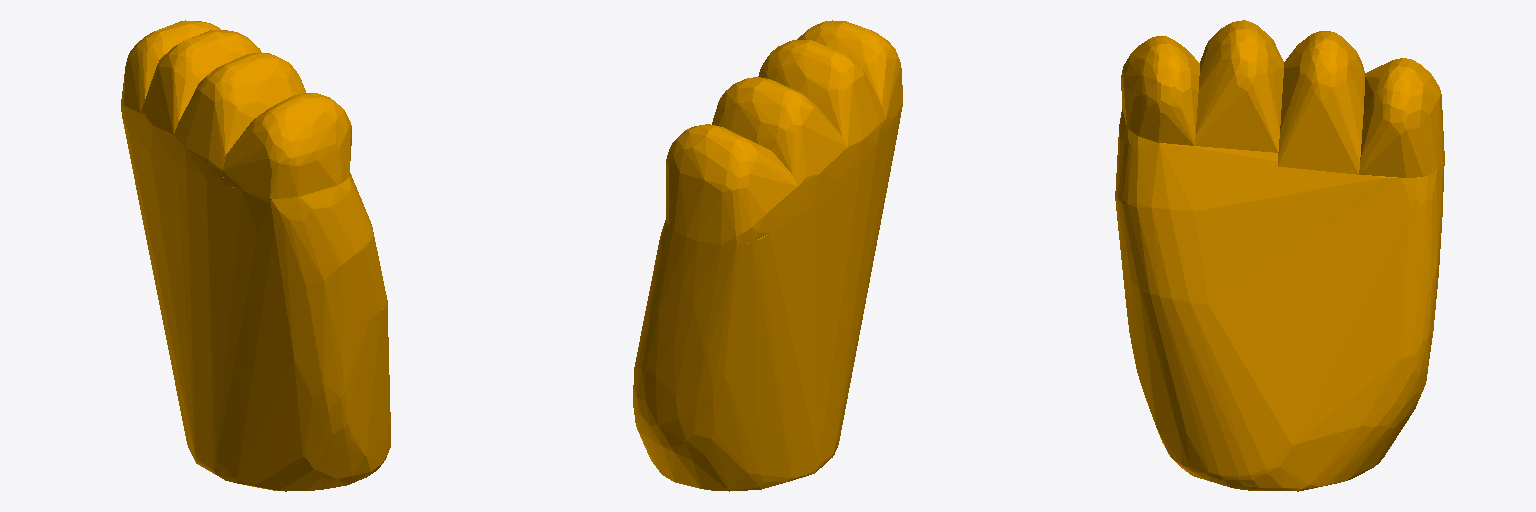
The robot description file, URDF, robot "ability_hand":
<robot name="ability_hand">
  <link name="root">
    <inertial>
      <mass value="0"/>
      <inertia ixx="0" ixy="0" ixz="0" iyy="0" iyz="0" izz="0" />
    </inertial>
  </link>
  <link name="root_arm_1_link_1">
    <inertial>
      <mass value="0"/>
      <inertia ixx="0.00" ixy="0.00" ixz="0.00" iyy="0.00" iyz="0.00" izz="0.00"/>
    </inertial>
  </link>
  <link name="root_arm_1_link_2">
    <inertial>
      <mass value="0"/>
      <inertia ixx="0.00" ixy="0.00" ixz="0.00" iyy="0.00" iyz="0.00" izz="0.00"/>
    </inertial>
  </link>
  <link name="root_arm_1_link_3">
    <inertial>
      <mass value="0"/>
      <inertia ixx="0.00" ixy="0.00" ixz="0.00" iyy="0.00" iyz="0.00" izz="0.00"/>
    </inertial>
  </link>
  <link name="root_arm_1_link_4">
    <inertial>
      <mass value="0"/>
      <inertia ixx="0.00" ixy="0.00" ixz="0.00" iyy="0.00" iyz="0.00" izz="0.00"/>
    </inertial>
  </link>
  <link name="root_arm_1_link_5">
    <inertial>
      <mass value="0"/>
      <inertia ixx="0.00" ixy="0.00" ixz="0.00" iyy="0.00" iyz="0.00" izz="0.00"/>
    </inertial>
  </link>
  <joint name="root_x_axis_joint" type="prismatic">
    <parent link="root" />
    <child link="root_arm_1_link_1" />
    <axis xyz="1 0 0" />
    <limit effort="100" lower="-20" upper="20" velocity="0.5" />
    <dynamics damping="10.0" friction="10" />
  </joint>
  <joint name="root_y_axis_joint" type="prismatic">
    <parent link="root_arm_1_link_1" />
    <child link="root_arm_1_link_2" />
    <axis xyz="0 1 0" />
    <limit effort="100" lower="-20" upper="20" velocity="0.5" />
    <dynamics damping="10" friction="10" />
  </joint>
  <joint name="root_z_axis_joint" type="prismatic">
    <parent link="root_arm_1_link_2" />
    <child link="root_arm_1_link_3" />
    <axis xyz="0 0 1" />
    <limit effort="100" lower="-20" upper="20" velocity="0.5" />
    <dynamics damping="10" friction="10" />
  </joint>
  <joint name="root_x_rot_joint" type="revolute">
    <parent link="root_arm_1_link_3" />
    <child link="root_arm_1_link_4" />
    <axis xyz="1 0 0" />
    <limit effort="100" lower="-20" upper="20" velocity="0.5" />
    <dynamics damping="10" friction="10" />
  </joint>
  <joint name="root_y_rot_joint" type="revolute">
    <parent link="root_arm_1_link_4" />
    <child link="root_arm_1_link_5" />
    <axis xyz="0 1 0" />
    <limit effort="100" lower="-20" upper="20" velocity="0.5" />
    <dynamics damping="10" friction="10" />
  </joint>
  <joint name="root_z_rot_joint" type="revolute">
    <parent link="root_arm_1_link_5" />
    <child link="base_link" />
    <axis xyz="0 0 1" />
    <limit effort="100" lower="-20" upper="20" velocity="0.5" />
    <dynamics damping="10" friction="10" />
  </joint>

  <link name="base_link"/>
  <joint name="base_joint" type="fixed">
    <parent link="base_link"/>
    <child link="base"/>
    <origin xyz="0 0 0" rpy="0 0 -1.57079"/>
  </joint>
  <link name="base">
    <visual name="wrist_mesh">
      <origin rpy="0 0 0" xyz="0 0 0"/>
      <geometry>
        <mesh filename="meshes/visual/wristmesh.obj"/>
      </geometry>
    </visual>
    <collision>
      <origin xyz="0 0 0" rpy="0 0 0"/>
      <geometry>
        <mesh filename="meshes/collision/wristmesh_C.obj"/>
      </geometry>
    </collision>
    <inertial>  <!-- the mass and inertia here are NOT correct -->
      <mass value="0.200"/>
      <inertia ixx="978.26e-6" ixy="87.34e-6" ixz="322.99e-6" iyy="1244.78e-6" iyz="244.74e-6" izz="456.22e-6"/>
      <origin xyz="22.41911e-3 -0.15798201e-3 -0.01319866e-3" rpy="0 0 0"/>
    </inertial>
  </link>
  <joint name="wrist2thumb" type="fixed">
    <parent link="base"/>
    <child link="thumb_base"/>
    <origin xyz="24.0476665e-3 3.78124745e-3 32.32964923e-3" rpy="3.14148426 0.08848813 3.14036612"/>
  </joint>
  <link name="thumb_base">
    <inertial>
      <mass value="0.400"/>
      <inertia ixx="978.26e-6" ixy="87.34e-6" ixz="322.99e-6" iyy="1244.78e-6" iyz="244.74e-6" izz="456.22e-6"/>
      <origin xyz="22.41911e-3 -0.15798201e-3 -0.01319866e-3" rpy="0 0 0"/>
    </inertial>
    <visual name="palm_mesh">
      <origin rpy="0 0 0" xyz="0 0 0"/>
      <geometry>
        <mesh filename="meshes/visual/FB_palm_ref.obj"/>
      </geometry>
    </visual>
    <collision>                                  <!-- thumb_base -->
      <origin xyz="0 0 0" rpy="0 0 0"/>
      <geometry>
        <mesh filename="meshes/collision/FB_palm_ref.obj"/>
      </geometry>
    </collision>
  </link>
  <link name="thumb_L1">
    <inertial>
      <mass value="0.00268342"/>
      <inertia ixx="0.16931e-4" ixy="-0.076214e-4" ixz="-0.16959148e-4" iyy="0.77769934e-4" iyz="0.0156622e-4" izz="0.7249122e-4"/>
      <origin rpy="0 0 0" xyz="14.606e-3 -1.890854e-3 -3.1155356e-3"/>
    </inertial>
    <visual name="thumb_mesh_1">
      <origin xyz="27.8283501e-3 0 -14.7507000e-3" rpy="4.450589592585541 0 0"/>
      <geometry>
        <mesh filename="meshes/visual/thumb-F1.obj"/>
      </geometry>
    </visual>
    <collision>                            <!-- thumb_L1 -->
      <origin xyz="27.8283501e-3 0 -14.7507000e-3" rpy="4.450589592585541 0 0"/>
      <geometry>
        <mesh filename="meshes/collision/thumb-F1_C.obj"/>
      </geometry>
    </collision>
  </link>
  <link name="thumb_L2">
    <inertial>
      <mass value="0.0055"/>
      <inertia ixx="4.4789082e-4" ixy="4.4789082e-4" ixz="-0.62144934e-4" iyy="15.600996e-4" iyz="-0.07466143e-4" izz="17.908554e-4"/>
      <origin rpy="0 0 0" xyz="30.020522e-3 5.59476e-3 -4.1504356e-3"/>
    </inertial>
    <visual name="thumb_mesh_2">
      <origin xyz="65.18669e-3 23.34021e-3 -3.93483e-3" rpy="3.141592 0 0.343830"/>
      <geometry>
        <mesh filename="meshes/visual/thumb-F2.obj"/>
      </geometry>
    </visual>
    <collision>                            <!-- thumb_L2 -->
      <origin xyz="65.18669e-3 23.34021e-3 -3.93483e-3" rpy="3.141592 0 0.343830"/>
      <geometry>
        <mesh filename="meshes/collision/thumb-F2_C.obj"/>
      </geometry>
    </collision>
  </link>
  <joint name="thumb_q1" type="revolute">
    <parent link="thumb_base"/>
    <child link="thumb_L1"/>
    <origin xyz="0 0 0" rpy="0 0 3.330437"/>
    <axis xyz="0 0 1"/>
    <limit lower="-2.0943951" upper="0" effort="1.2" velocity="40.338888721"/>    <!-- angles in rad, efforts in N-m, velocity in rad/s -->
    <dynamics damping="0.001" friction="0.001"/>  <!-- Friction coefficient is not from quantitative measurement -->
  </joint>
  <joint name="thumb_q2" type="revolute">
    <parent link="thumb_L1"/>
    <child link="thumb_L2"/>
    <origin xyz="27.8283501e-3 0 -14.7507000e-3" rpy="4.450589592585541 0 0"/>
    <axis xyz="0 0 1"/>
    <limit lower="0" upper="2.0943951" effort="6.0" velocity="8.0677777442"/>    <!-- angles in rad, efforts in N-m, velocity in rad/s -->
    <dynamics damping="0.001" friction="0.001"/>  <!-- Friction coefficient is not from quantitative measurement -->
  </joint>
  <link name="thumb_tip"/>
  <joint name="thumb_tip_joint" type="fixed">
    <parent link="thumb_L2"/>
    <child link="thumb_tip"/>
    <origin rpy="0 0 0" xyz="0.065 0.016 0"/>
  </joint>
  <link name="index_L1">
    <inertial>
      <mass value="0.00635888"/>
      <inertia ixx="0.29766e-4" ixy="-0.06447133e-4" ixz="-0.00423315e-4" iyy="3.6947967e-4" iyz="0.00083028e-4" izz="3.8176336e-4"/>
      <origin xyz="22.41911e-3 -0.15798201e-3 -0.01319866e-3" rpy="0 0 0"/>
    </inertial>
    <visual name="index_mesh_1">
      <origin xyz="38.472723e-3 3.257695e-3 0.000000" rpy="0 0 0.084474"/>
      <geometry>
        <mesh filename="meshes/visual/idx-F1.obj"/>
      </geometry>
    </visual>
    <collision>                                  <!-- index_L1 -->
      <origin xyz="0.036 -0.00175 0" rpy="0 0 0"/>
      <geometry>
        <sphere radius="0.0085"/>
      </geometry>
    </collision>
    <collision>
      <origin xyz="0.019 -0.0045 0" rpy="0 0 0.0845"/>
      <geometry>
        <box size="0.028 0.012 0.016"/>
      </geometry>
    </collision>
    <collision>
      <origin xyz="0.018 0.006 0" rpy="0 0 0.0845"/>
      <geometry>
        <box size="0.02 0.01 0.016"/>
      </geometry>
    </collision>
    <collision>
      <origin xyz="-0.001 0 0.007" rpy="0 0 0.0845"/>
      <geometry>
        <box size="0.012 0.012 0.002"/>
      </geometry>
    </collision>
    <collision>
      <origin xyz="-0.001 0 -0.007" rpy="0 0 0.0845"/>
      <geometry>
        <box size="0.012 0.012 0.002"/>
      </geometry>
    </collision>
  </link>
  <link name="index_L2">
    <inertial>
      <mass value="0.00645"/>
      <inertia ixx="0.82671e-4" ixy="-1.08876e-4" ixz="-0.00037e-4" iyy="1.98028e-4" iyz="0.00081e-4" izz="2.64638e-4"/>
      <origin rpy="0 0 0" xyz="13.36818e-3 -8.75392e-3 -0.02886e-3"/>
    </inertial>
    <visual name="index_mesh_2">
      <origin rpy="0 0 0" xyz="9.1241e-3 0 0"/>
      <geometry>
        <mesh filename="meshes/visual/idx-F2.obj"/>
      </geometry>
    </visual>
    <collision>                            <!-- index_L2 -->
      <origin xyz="0 0 0" rpy="0 0 0"/>
      <geometry>
        <mesh filename="meshes/collision/idx-F2_C.obj"/>
      </geometry>
    </collision>
    <collision>
      <origin xyz="0.03 -0.016 0" rpy="0 0 0"/>
      <geometry>
        <sphere radius="0.007"/>
      </geometry>
    </collision>
  </link>
  <joint name="index_q1" type="revolute">
    <parent link="thumb_base"/>
    <child link="index_L1"/>
    <origin xyz="-9.49e-3 -13.04e-3 -62.95e-3" rpy="-1.982050 1.284473 -2.090591"/>
    <axis xyz="0 0 1"/>
    <limit lower="0" upper="2.0943951" effort="6.0" velocity="8.0677777442"/>    <!-- angles in rad, efforts in N-m, velocity in rad/s -->
    <dynamics damping="0.001" friction="0.001"/>  <!-- Friction coefficient is not from quantitative measurement -->
  </joint>
  <joint name="index_q2" type="revolute">
    <parent link="index_L1"/>
    <child link="index_L2"/>
    <origin xyz="38.472723e-3 3.257695e-3 0.000000e-3" rpy="0 0 0.084474"/>
    <axis xyz="0 0 1"/>
    <limit lower="0.0" upper="2.6586" effort="6.0" velocity="8.0677777442"/>    <!-- angles in rad, efforts in N-m, velocity in rad/s -->
    <dynamics damping="0.001" friction="0.001"/>  <!-- Friction coefficient is not from quantitative measurement -->
    <!-- <mimic joint="index_q1" multiplier="1.05851325" offset="0.72349796"/> -->
  </joint>
  <link name="index_tip"/>
  <joint name="index_tip_joint" type="fixed">
    <parent link="index_L2"/>
    <child link="index_tip"/>
    <origin rpy="0 0 0" xyz="0.035  -0.018 0"/>
  </joint>
  <link name="middle_L1">
    <inertial>
      <mass value="0.00635888"/>
      <inertia ixx="0.29766e-4" ixy="-0.06447133e-4" ixz="-0.00423315e-4" iyy="3.6947967e-4" iyz="0.00083028e-4" izz="3.8176336e-4"/>
      <origin xyz="22.41911e-3 -0.15798201e-3 -0.01319866e-3" rpy="0 0 0"/>
    </inertial>
    <visual name="middle_mesh_1">
      <origin xyz="38.472723e-3 3.257695e-3 0.000000" rpy="0 0 0.084474"/>
      <geometry>
        <mesh filename="meshes/visual/idx-F1.obj"/>
      </geometry>
    </visual>
    <collision>                                  <!-- middle_L1 -->
      <origin xyz="0.036 -0.00175 0" rpy="0 0 0"/>
      <geometry>
        <sphere radius="0.0085"/>
      </geometry>
    </collision>
    <collision>
      <origin xyz="0.019 -0.0045 0" rpy="0 0 0.0845"/>
      <geometry>
        <box size="0.028 0.012 0.016"/>
      </geometry>
    </collision>
    <collision>
      <origin xyz="0.018 0.006 0" rpy="0 0 0.0845"/>
      <geometry>
        <box size="0.02 0.01 0.016"/>
      </geometry>
    </collision>
    <collision>
      <origin xyz="-0.001 0 0.007" rpy="0 0 0.0845"/>
      <geometry>
        <box size="0.012 0.012 0.002"/>
      </geometry>
    </collision>
    <collision>
      <origin xyz="-0.001 0 -0.007" rpy="0 0 0.0845"/>
      <geometry>
        <box size="0.012 0.012 0.002"/>
      </geometry>
    </collision>
  </link>
  <link name="middle_L2">
    <inertial>
      <mass value="0.00645"/>
      <inertia ixx="0.82671e-4" ixy="-1.08876e-4" ixz="-0.00037e-4" iyy="1.98028e-4" iyz="0.00081e-4" izz="2.64638e-4"/>
      <origin rpy="0 0 0" xyz="13.36818e-3 -8.75392e-3 -0.02886e-3"/>
    </inertial>
    <visual name="middle_mesh_2">
      <origin rpy="0 0 0" xyz="9.1241e-3 0 0"/>
      <geometry>
        <mesh filename="meshes/visual/idx-F2.obj"/>
      </geometry>
    </visual>
    <collision>                            <!-- middle_L2 -->
      <origin xyz="0 0 0" rpy="0 0 0"/>
      <geometry>
        <mesh filename="meshes/collision/idx-F2_C.obj"/>
      </geometry>
    </collision>
    <collision>
      <origin xyz="0.03 -0.016 0" rpy="0 0 0"/>
      <geometry>
        <sphere radius="0.007"/>
      </geometry>
    </collision>
  </link>
  <joint name="middle_q1" type="revolute">
    <parent link="thumb_base"/>
    <child link="middle_L1"/>
    <origin xyz="9.653191e-3 -15.310271e-3 -67.853949e-3" rpy="-1.860531 1.308458 -1.896217"/>
    <limit lower="0" upper="2.0943951" effort="6.0" velocity="8.0677777442"/>    <!-- angles in rad, efforts in N-m, velocity in rad/s -->
    <dynamics damping="0.001" friction="0.001"/>  <!-- Friction coefficient is not from quantitative measurement -->
    <axis xyz="0 0 1"/>
  </joint>
  <joint name="middle_q2" type="revolute">
    <parent link="middle_L1"/>
    <child link="middle_L2"/>
    <origin xyz="38.472723e-3 3.257695e-3 0.000000" rpy="0 0 0.084474"/>
    <axis xyz="0 0 1"/>
    <limit lower="0.0" upper="2.6586" effort="6.0" velocity="8.0677777442"/>    <!-- angles in rad, efforts in N-m, velocity in rad/s -->
    <dynamics damping="0.001" friction="0.001"/>  <!-- Friction coefficient is not from quantitative measurement -->
    <!-- <mimic joint="middle_q1" multiplier="1.05851325" offset="0.72349796"/> -->
  </joint>
  <link name="middle_tip"/>
  <joint name="middle_tip_joint" type="fixed">
    <parent link="middle_L2"/>
    <child link="middle_tip"/>
    <origin rpy="0 0 0" xyz="0.035  -0.018 0"/>
  </joint>
  <link name="ring_L1">
    <inertial>
      <mass value="0.00635888"/>
      <inertia ixx="0.29766e-4" ixy="-0.06447133e-4" ixz="-0.00423315e-4" iyy="3.6947967e-4" iyz="0.00083028e-4" izz="3.8176336e-4"/>
      <origin xyz="22.41911e-3 -0.15798201e-3 -0.01319866e-3" rpy="0 0 0"/>
    </inertial>
    <visual name="ring_mesh_1">
      <origin xyz="38.472723e-3 3.257695e-3 0.000000" rpy="0 0 0.084474"/>
      <geometry>
        <mesh filename="meshes/visual/idx-F1.obj"/>
      </geometry>
    </visual>
    <collision>                                  <!-- ring_L1 -->
      <origin xyz="0.036 -0.00175 0" rpy="0 0 0"/>
      <geometry>
        <sphere radius="0.0085"/>
      </geometry>
    </collision>
    <collision>
      <origin xyz="0.019 -0.0045 0" rpy="0 0 0.0845"/>
      <geometry>
        <box size="0.028 0.012 0.016"/>
      </geometry>
    </collision>
    <collision>
      <origin xyz="0.018 0.006 0" rpy="0 0 0.0845"/>
      <geometry>
        <box size="0.02 0.01 0.016"/>
      </geometry>
    </collision>
    <collision>
      <origin xyz="-0.001 0 0.007" rpy="0 0 0.0845"/>
      <geometry>
        <box size="0.012 0.012 0.002"/>
      </geometry>
    </collision>
    <collision>
      <origin xyz="-0.001 0 -0.007" rpy="0 0 0.0845"/>
      <geometry>
        <box size="0.012 0.012 0.002"/>
      </geometry>
    </collision>
  </link>
  <link name="ring_L2">
    <inertial>
      <mass value="0.00645"/>
      <inertia ixx="0.82671e-4" ixy="-1.08876e-4" ixz="-0.00037e-4" iyy="1.98028e-4" iyz="0.00081e-4" izz="2.64638e-4"/>
      <origin rpy="0 0 0" xyz="13.36818e-3 -8.75392e-3 -0.02886e-3"/>
    </inertial>
    <visual name="ring_mesh_2">
      <origin rpy="0 0 0" xyz="9.1241e-3 0 0"/>
      <geometry>
        <mesh filename="meshes/visual/idx-F2.obj"/>
      </geometry>
    </visual>
    <collision>                            <!-- ring_L2 -->
      <origin xyz="0 0 0" rpy="0 0 0"/>
      <geometry>
        <mesh filename="meshes/collision/idx-F2_C.obj"/>
      </geometry>
    </collision>
    <collision>
      <origin xyz="0.03 -0.016 0" rpy="0 0 0"/>
      <geometry>
        <sphere radius="0.007"/>
      </geometry>
    </collision>
  </link>
  <joint name="ring_q1" type="revolute">
    <parent link="thumb_base"/>
    <child link="ring_L1"/>
    <origin xyz="29.954260e-3 -14.212492e-3 -67.286105e-3" rpy="-1.716598 1.321452 -1.675862"/>
    <limit lower="0" upper="2.0943951" effort="6.0" velocity="8.0677777442"/>    <!-- angles in rad, efforts in N-m, velocity in rad/s -->
    <dynamics damping="0.001" friction="0.001"/>  <!-- Friction coefficient is not from quantitative measurement -->
    <axis xyz="0 0 1"/>
  </joint>
  <joint name="ring_q2" type="revolute">
    <parent link="ring_L1"/>
    <child link="ring_L2"/>
    <origin xyz="38.472723e-3 3.257695e-3 0.000000" rpy="0 0 0.084474"/>
    <axis xyz="0 0 1"/>
    <limit lower="0.0" upper="2.6586" effort="6.0" velocity="8.0677777442"/>    <!-- angles in rad, efforts in N-m, velocity in rad/s -->
    <dynamics damping="0.001" friction="0.001"/>  <!-- Friction coefficient is not from quantitative measurement -->
    <!-- <mimic joint="ring_q1" multiplier="1.05851325" offset="0.72349796"/> -->
  </joint>
  <link name="ring_tip"/>
  <joint name="ring_tip_joint" type="fixed">
    <parent link="ring_L2"/>
    <child link="ring_tip"/>
    <origin rpy="0 0 0" xyz="0.035  -0.018 0"/>
  </joint>
  <link name="pinky_L1">
    <inertial>
      <mass value="0.00635888"/>
      <inertia ixx="0.29766e-4" ixy="-0.06447133e-4" ixz="-0.00423315e-4" iyy="3.6947967e-4" iyz="0.00083028e-4" izz="3.8176336e-4"/>
      <origin xyz="22.41911e-3 -0.15798201e-3 -0.01319866e-3" rpy="0 0 0"/>
    </inertial>
    <visual name="pinky_mesh_1">
      <origin xyz="38.472723e-3 3.257695e-3 0.000000" rpy="0 0 0.084474"/>
      <geometry>
        <mesh filename="meshes/visual/idx-F1.obj"/>
      </geometry>
    </visual>
    <collision>                                  <!-- pinky_L1 -->
      <origin xyz="0.036 -0.00175 0" rpy="0 0 0"/>
      <geometry>
        <sphere radius="0.0085"/>
      </geometry>
    </collision>
    <collision>
      <origin xyz="0.019 -0.0045 0" rpy="0 0 0.0845"/>
      <geometry>
        <box size="0.028 0.012 0.016"/>
      </geometry>
    </collision>
    <collision>
      <origin xyz="0.018 0.006 0" rpy="0 0 0.0845"/>
      <geometry>
        <box size="0.02 0.01 0.016"/>
      </geometry>
    </collision>
    <collision>
      <origin xyz="-0.001 0 0.007" rpy="0 0 0.0845"/>
      <geometry>
        <box size="0.012 0.012 0.002"/>
      </geometry>
    </collision>
    <collision>
      <origin xyz="-0.001 0 -0.007" rpy="0 0 0.0845"/>
      <geometry>
        <box size="0.012 0.012 0.002"/>
      </geometry>
    </collision>
  </link>
  <link name="pinky_L2">
    <inertial>
      <mass value="0.00645"/>
      <inertia ixx="0.82671e-4" ixy="-1.08876e-4" ixz="-0.00037e-4" iyy="1.98028e-4" iyz="0.00081e-4" izz="2.64638e-4"/>
      <origin rpy="0 0 0" xyz="13.36818e-3 -8.75392e-3 -0.02886e-3"/>
    </inertial>
    <visual name="pinky_mesh_2">
      <origin rpy="0 0 0" xyz="9.1241e-3 0 0"/>
      <geometry>
        <mesh filename="meshes/visual/idx-F2.obj"/>
      </geometry>
    </visual>
    <collision>                            <!-- pinky_L2 -->
      <origin xyz="0 0 0" rpy="0 0 0"/>
      <geometry>
        <mesh filename="meshes/collision/idx-F2_C.obj"/>
      </geometry>
    </collision>
    <collision>
      <origin xyz="0.03 -0.016 0" rpy="0 0 0"/>
      <geometry>
        <sphere radius="0.007"/>
      </geometry>
    </collision>
  </link>
  <joint name="pinky_q1" type="revolute">
    <parent link="thumb_base"/>
    <child link="pinky_L1"/>
    <origin xyz="49.521293e-3 -11.004583e-3 -63.029065e-3" rpy="-1.765110 1.322220 -1.658383"/>
    <limit lower="0" upper="2.0943951" effort="6.0" velocity="8.0677777442"/>    <!-- angles in rad, efforts in N-m, velocity in rad/s -->
    <dynamics damping="0.001" friction="0.001"/>  <!-- Friction coefficient is not from quantitative measurement -->
    <axis xyz="0 0 1"/>
  </joint>
  <joint name="pinky_q2" type="revolute">
    <parent link="pinky_L1"/>
    <child link="pinky_L2"/>
    <origin xyz="38.472723e-3 3.257695e-3 0.000000" rpy="0 0 0.084474"/>
    <limit lower="0.0" upper="2.6586" effort="6.0" velocity="8.0677777442"/>    <!-- angles in rad, efforts in N-m, velocity in rad/s -->
    <dynamics damping="0.001" friction="0.001"/>  <!-- Friction coefficient is not from quantitative measurement -->
    <axis xyz="0 0 1"/>
    <!-- <mimic joint="pinky_q1" multiplier="1.05851325" offset="0.72349796"/> -->
  </joint>
  <link name="pinky_tip"/>
  <joint name="pinky_tip_joint" type="fixed">
    <parent link="pinky_L2"/>
    <child link="pinky_tip"/>
    <origin rpy="0 0 0" xyz="0.035  -0.018 0"/>
  </joint>
</robot>

--- What the picture shows (computed from the rendered views, not written in the file) ---
Views: 3 orthographic renders of the robot side by side, from view 1: azimuth 30°, elevation 25°; view 2: azimuth 150°, elevation 25°; view 3: azimuth 270°, elevation 25°.
Model ability_hand with 24 links and 23 joints (13 revolute, 3 prismatic, 7 fixed), rooted at root, posed every joint at zero.
Links seen in each view (by area): view 1: thumb_base; view 2: thumb_base; view 3: thumb_base.
Boxes of the visible links, x1,y1,x2,y2 form: thumb_base: [121, 20, 390, 491]; thumb_base: [633, 20, 902, 491]; thumb_base: [1115, 20, 1444, 491].
Size in the robot's own frame: 0.0553 by 0.083 by 0.112 metres.
1 mesh visuals loaded from 6 distinct referenced files (1 OBJ); not drawn: 11 (reference not matched to a file when rendering).